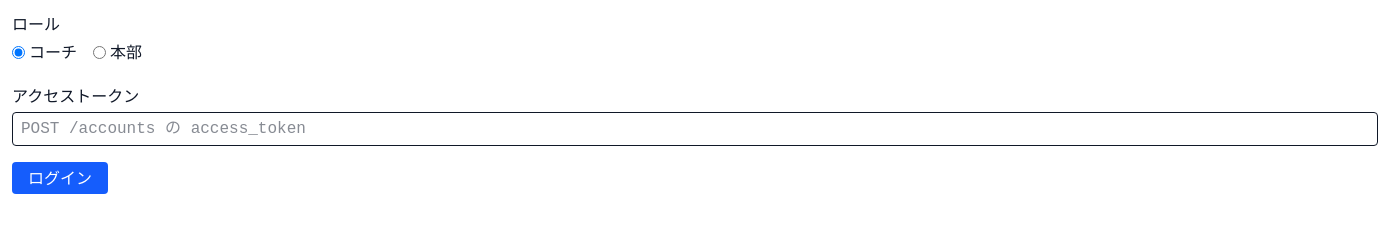
Test: ログイン › トークンが空ならログインしない
Click the button "ログイン" at (60, 178), box x1=12 y1=162 x2=108 y2=194
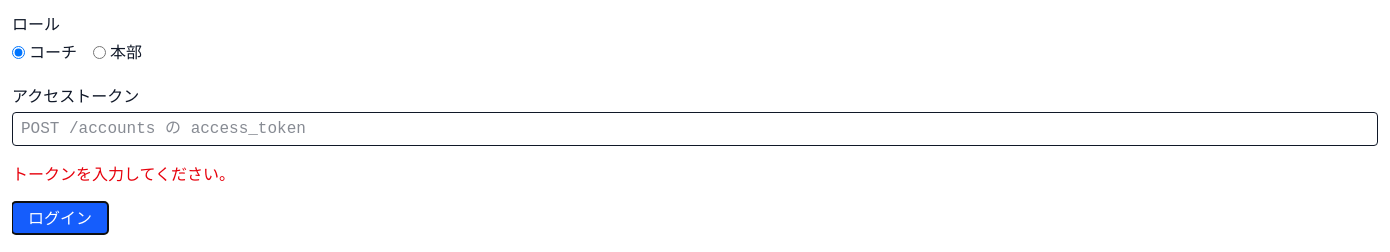
Result: the message reads "トークンを入力してください。" at x1=12 y1=164 x2=235 y2=184
